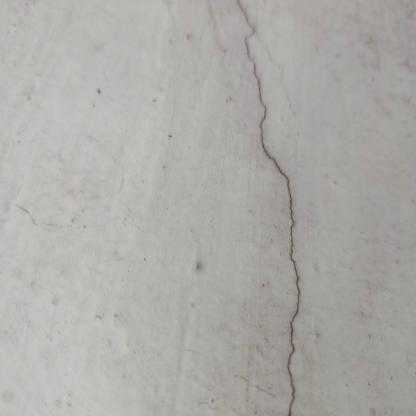crack: (236, 0, 300, 416)
